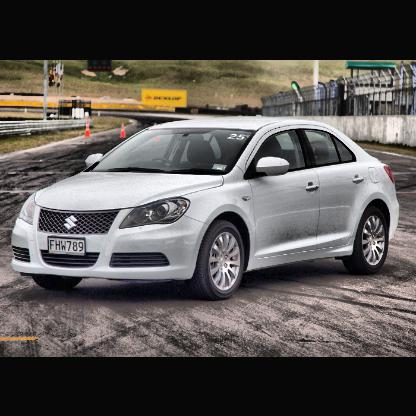Suzuki Kizashi Sedan 2012: (10, 114, 402, 297)
